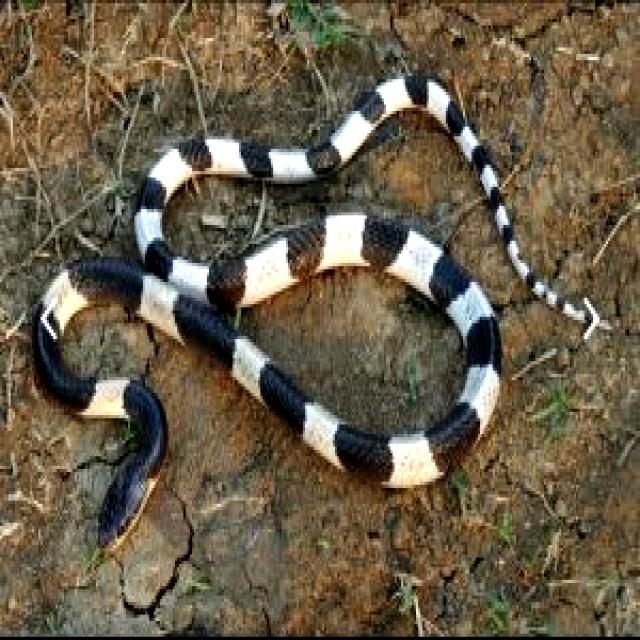Bungarus candidus: (35, 77, 590, 551)
